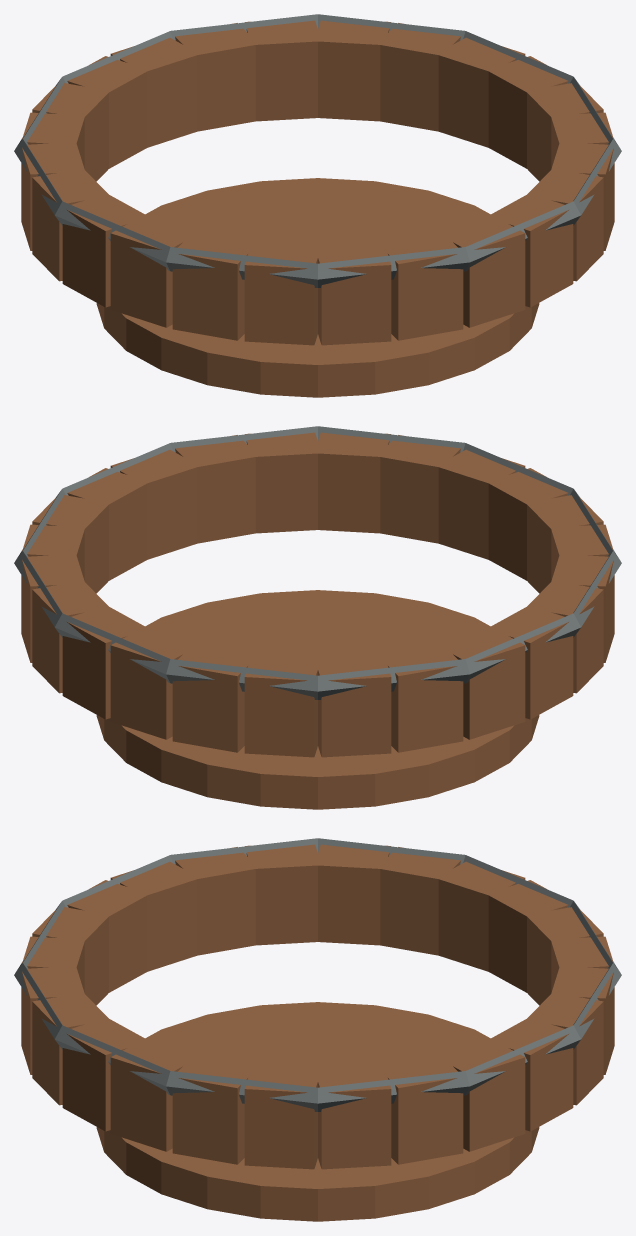
Rendered from bateia.glb.
3 views of the same model, one above another, from view 1: azimuth 30°, elevation 25°; view 2: azimuth 150°, elevation 25°; view 3: azimuth 270°, elevation 25° (orthographic).
Visible parts, largest first — view 1: bateia; view 2: bateia; view 3: bateia.
Boxes of the visible parts, x1=… form: bateia: x1=14, y1=14, x2=621, y2=397; bateia: x1=14, y1=426, x2=621, y2=809; bateia: x1=14, y1=838, x2=621, y2=1221.
Bounding box in the file's own units: 10 × 3 × 10.
